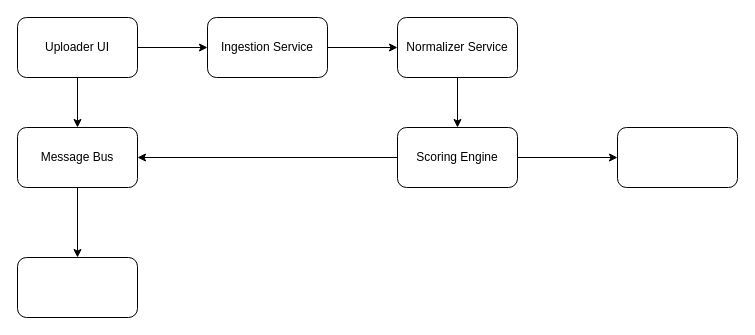
Image size: 755x335. Some labels were removed from this diagram. Each missing label, with the box of its shape:
Database: (616, 126, 738, 188)
Notifications: (16, 256, 138, 318)
